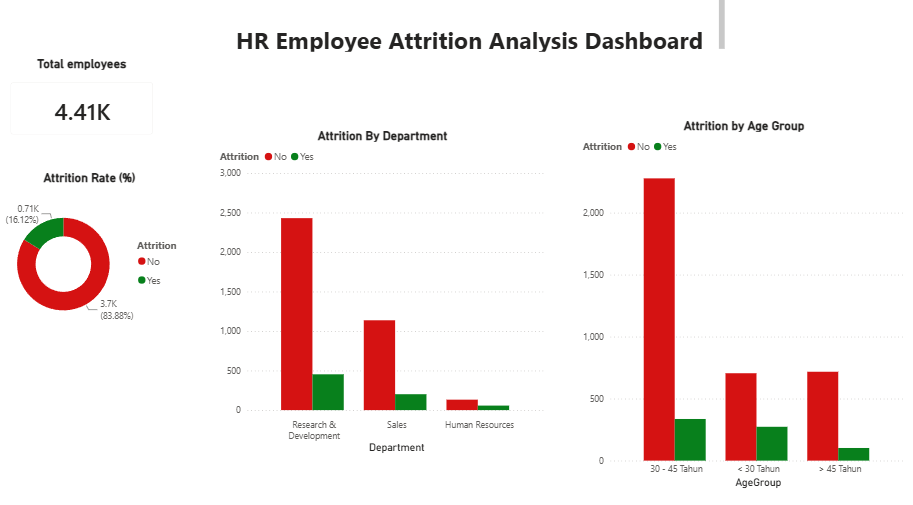

Layout of this report page (visuals, bound fields, positions):
{"tool":"powerbi","page":{"name":"Page 1","canvas":[1280,720],"ordinal":0},"visuals":[{"type":"cardVisual","title":"Total employees","fields":{"Data":["CountNonNull(processed_hr_data.Employee ID)"]},"box":[16.7,95.5,230.5,125.9],"z":0},{"type":"donutChart","title":"Attrition Rate (%)","fields":{"Category":["processed_hr_data.Attrition"],"Y":["CountNonNull(processed_hr_data.Employee ID)"]},"box":[0,253.3,283.6,239.6],"z":1000},{"type":"clusteredColumnChart","title":"Attrition By Department","fields":{"Series":["processed_hr_data.Attrition"],"Category":["processed_hr_data.Department"],"Y":["CountNonNull(processed_hr_data.Employee ID)"]},"box":[315.5,195.6,458,451.9],"z":2000},{"type":"clusteredColumnChart","title":"Attrition by  Age Group","fields":{"Series":["processed_hr_data.Attrition"],"Category":["processed_hr_data.AgeGroup"],"Y":["CountNonNull(processed_hr_data.Employee ID)"]},"box":[814.4,182,453.5,514.1],"z":3000},{"type":"textbox","box":[315.5,12.1,703.7,83.4],"z":4000}]}

Visuals, with their boxes in screenshot pixels (x1, y1, x2, y2), scaled from the page's 1280x720 canvas onto the 913x505 screenshot:
"Total employees" cardVisual: 12 67 176 155
"Attrition Rate (%)" donutChart: 0 178 202 346
"Attrition By Department" clusteredColumnChart: 225 137 552 454
"Attrition by  Age Group" clusteredColumnChart: 581 128 904 488
textbox: 225 8 727 67
